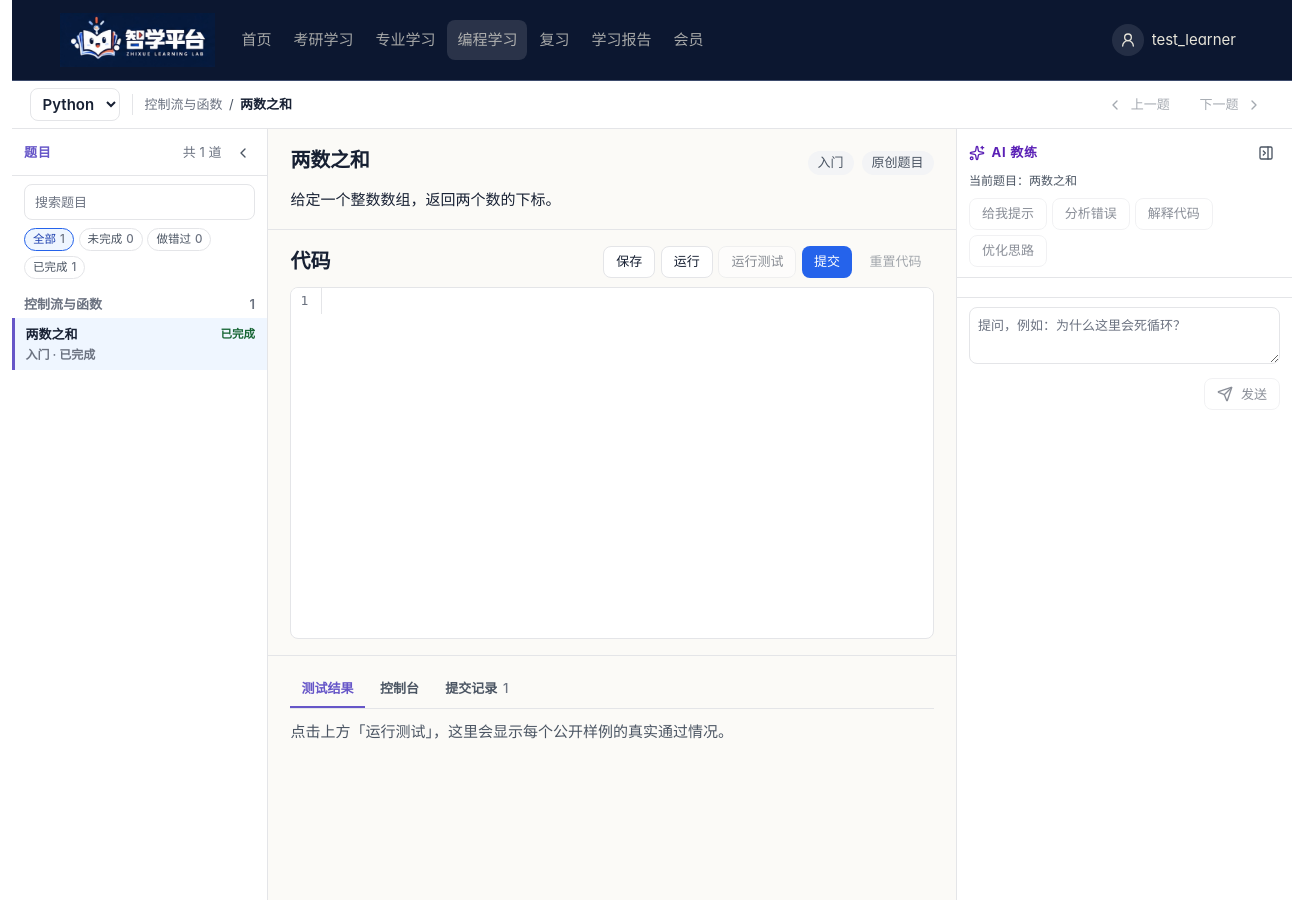
Test: LEARNER_METADATA_LEAKAGE_GUARD · Programming › renders a submission without its source references or capability name
This screenshot has width=1292, height=900.
Expected: the text "两数之和" is shown, 240,95 -> 292,114
Click the tab "提交记录1".
click(477, 690)  # box 434,672 -> 520,708
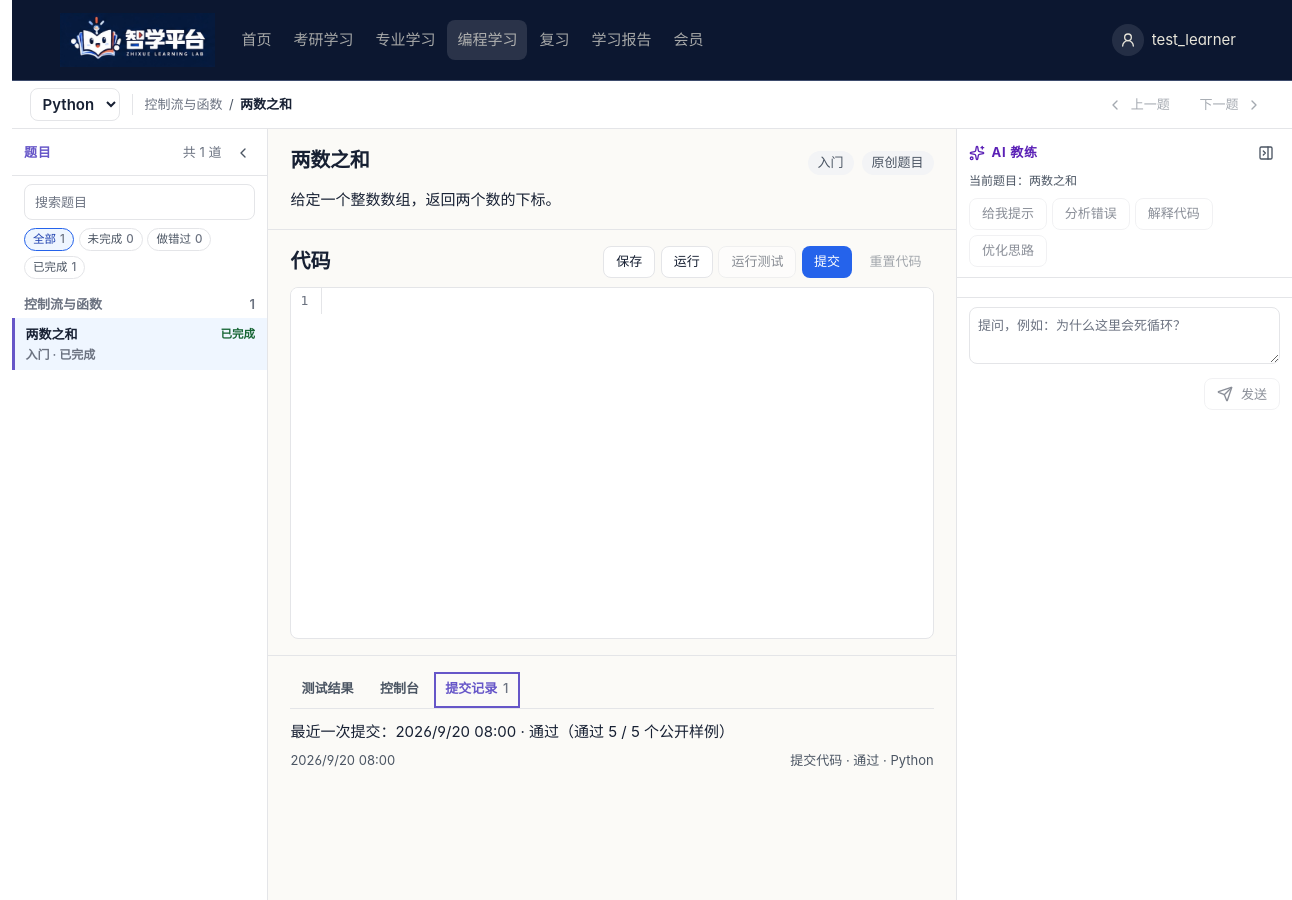
Expected: the text "提交代码 · 通过 · Python" is shown, 790,751 -> 934,770
Expected: the text "最近一次提交：2026/9/20 08:00 · 通过（通过 5 / 5 个公开样例）" is shown, 290,722 -> 734,741
